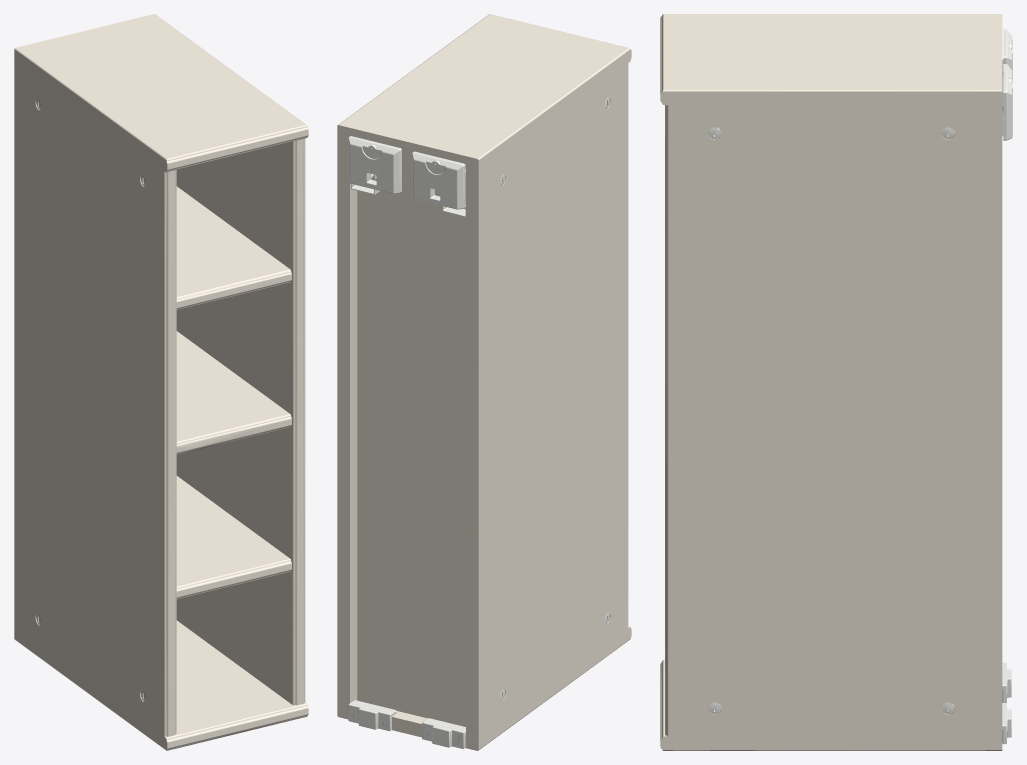
Rendered from tornviken_szafka_otwarta_20358970.glb.
3 views of the same model, side by side, from view 1: azimuth 30°, elevation 25°; view 2: azimuth 150°, elevation 25°; view 3: azimuth 270°, elevation 25° (orthographic). The views are drawn at different scales.
Parts seen in each view (by area): view 1: tornviken_szafka_otwarta_20358970; view 2: tornviken_szafka_otwarta_20358970; view 3: tornviken_szafka_otwarta_20358970.
Part boxes in pixels (x1,y1,x2,y2): tornviken_szafka_otwarta_20358970: (14, 14, 308, 750); tornviken_szafka_otwarta_20358970: (337, 14, 631, 750); tornviken_szafka_otwarta_20358970: (660, 14, 1012, 750).
Size of the model in its own units: 0.2 by 0.8 by 0.386.
1 material, 1 textured.
